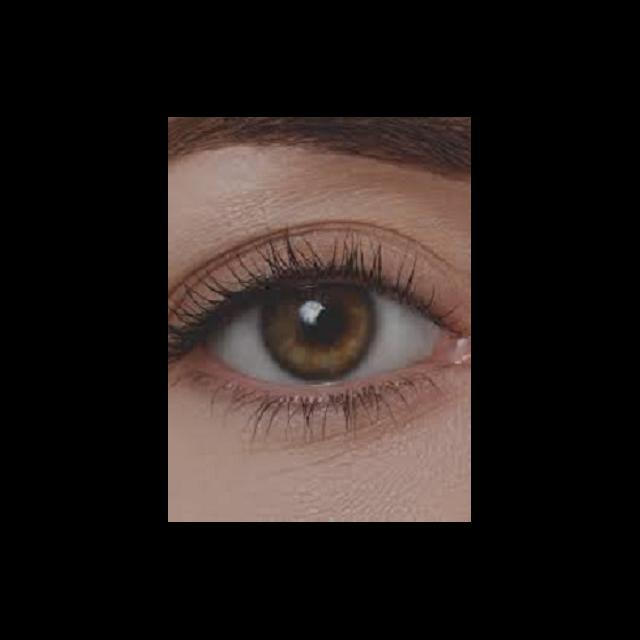eye: (201, 280, 440, 388)
iris: (262, 286, 377, 382)
